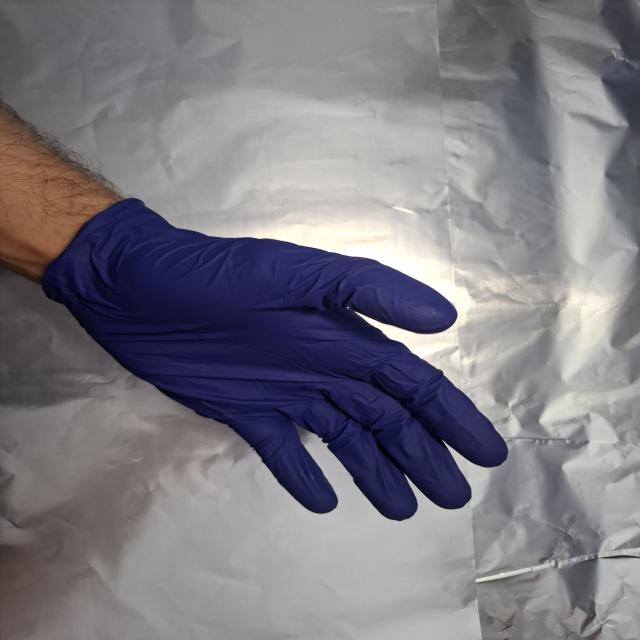glove_on: (45, 199, 511, 524)
